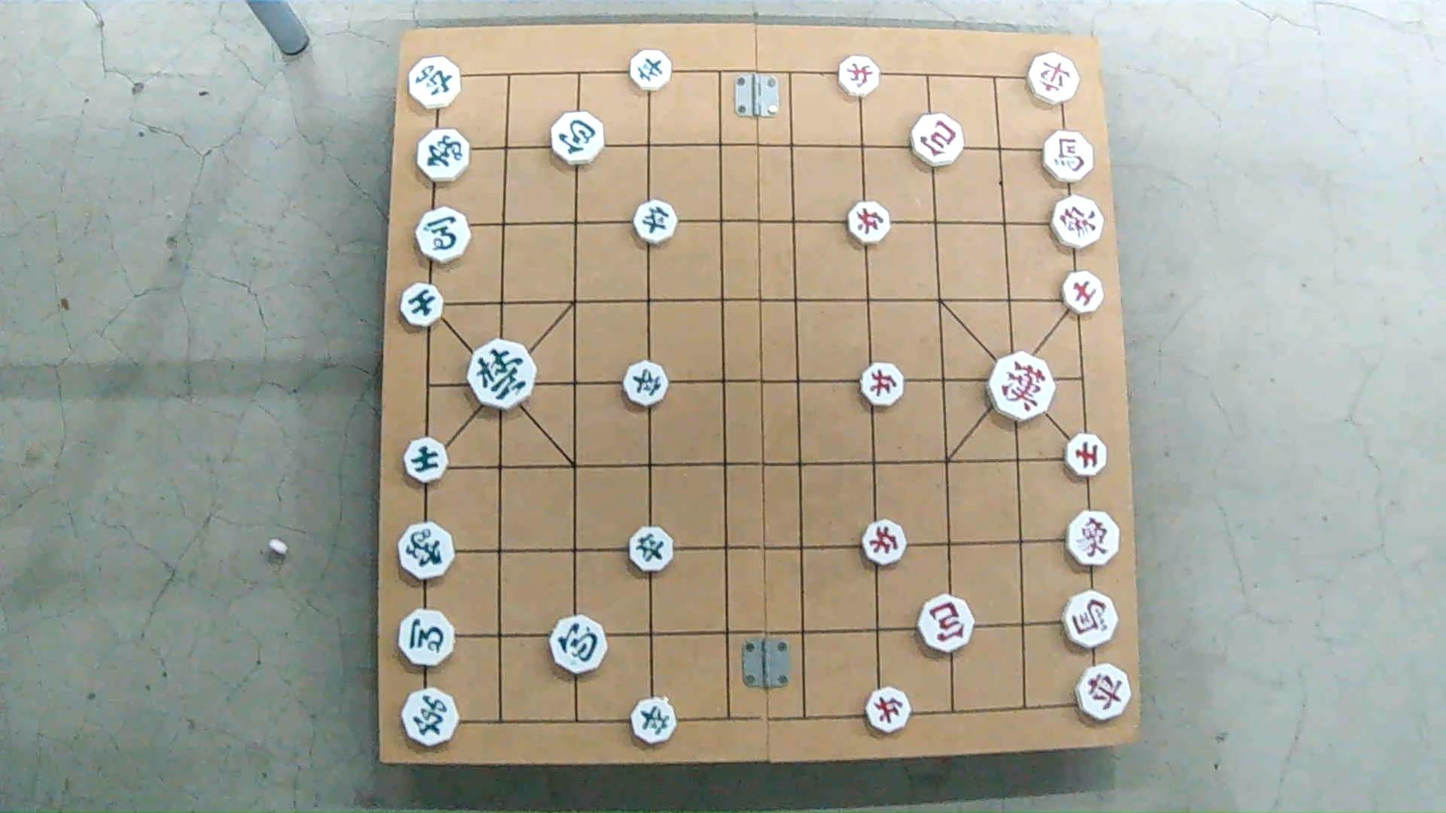cha_green: (397, 687, 462, 745), (409, 58, 462, 112)
cha_red: (1074, 662, 1132, 720), (1025, 55, 1078, 103)
jol_green: (631, 699, 681, 744), (628, 527, 673, 571), (633, 203, 679, 245), (623, 363, 668, 405), (628, 52, 671, 92)
jol_red: (865, 690, 911, 733), (859, 364, 904, 406), (862, 522, 906, 562), (847, 201, 891, 241), (837, 59, 881, 98)
ma_green: (397, 607, 456, 668), (416, 210, 471, 262)
ma_red: (1062, 592, 1120, 648), (1040, 131, 1094, 181)
po_green: (549, 614, 609, 677), (550, 111, 603, 166)
po_red: (916, 597, 972, 651), (911, 115, 966, 166)
sa_green: (403, 437, 447, 481), (401, 284, 447, 325)
sa_red: (1067, 434, 1109, 477), (1063, 273, 1106, 312)
sang_green: (400, 520, 457, 579), (413, 130, 468, 181)
sang_red: (1064, 513, 1119, 567), (1048, 198, 1103, 248)
wang_green: (466, 342, 535, 406)
wang_red: (989, 355, 1056, 419)
